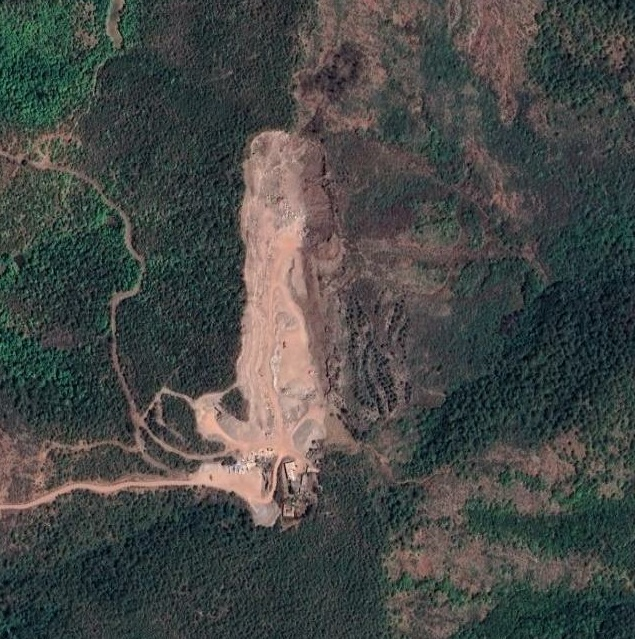slope: (190, 123, 359, 455), (290, 40, 380, 130)
